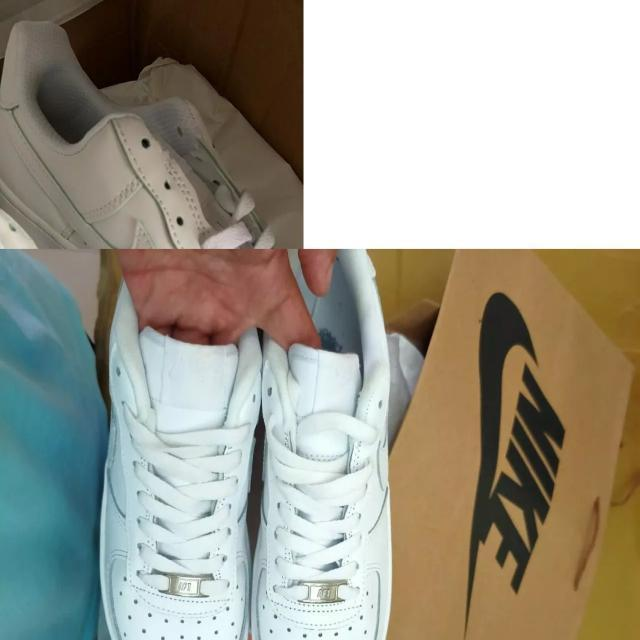nike fake air force: (82, 271, 262, 640), (1, 15, 277, 246), (249, 249, 390, 640)
